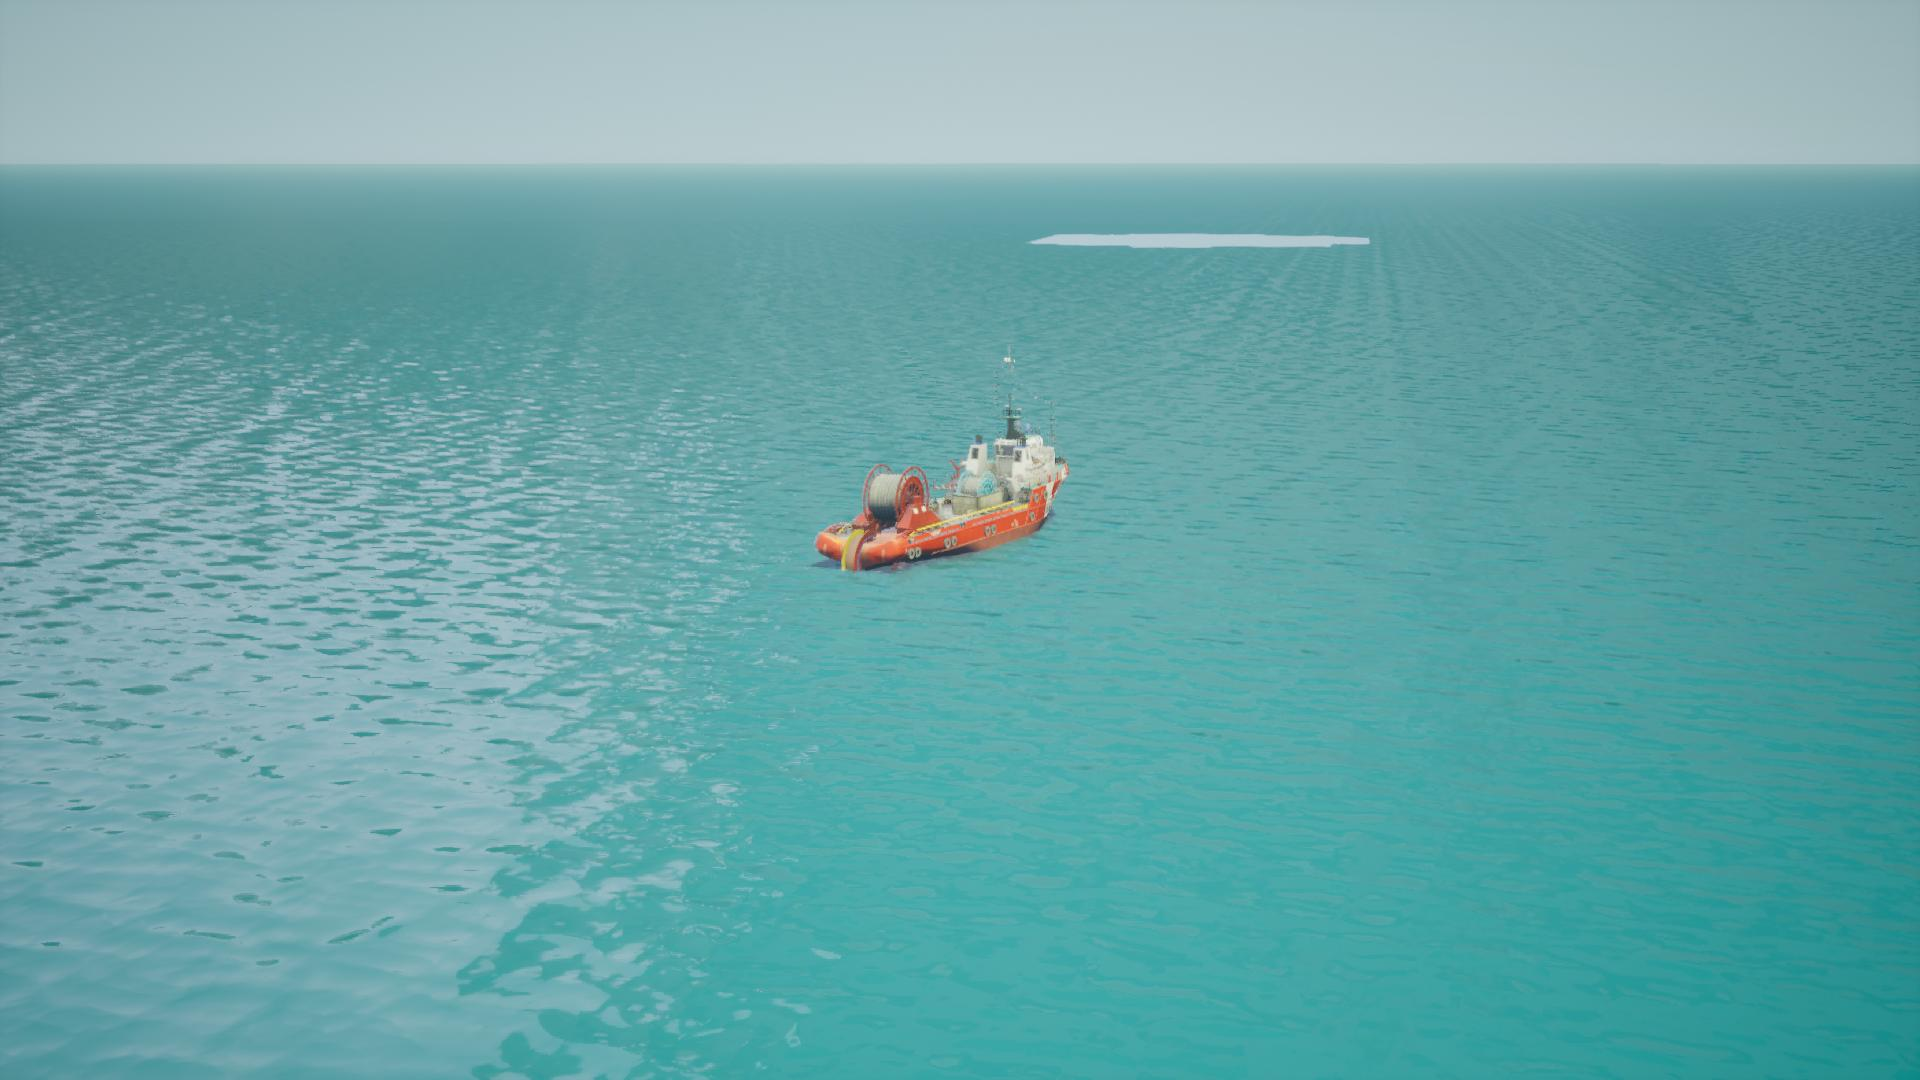Tug Boat: (818, 344, 1067, 582)
